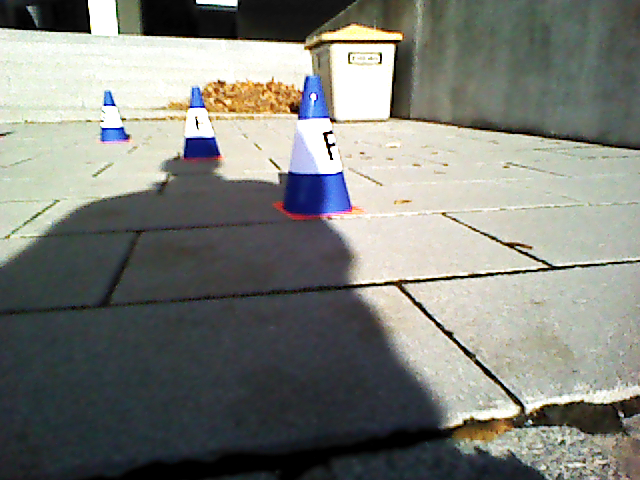bluecone: (284, 76, 351, 213), (184, 88, 220, 158), (100, 91, 127, 142)
